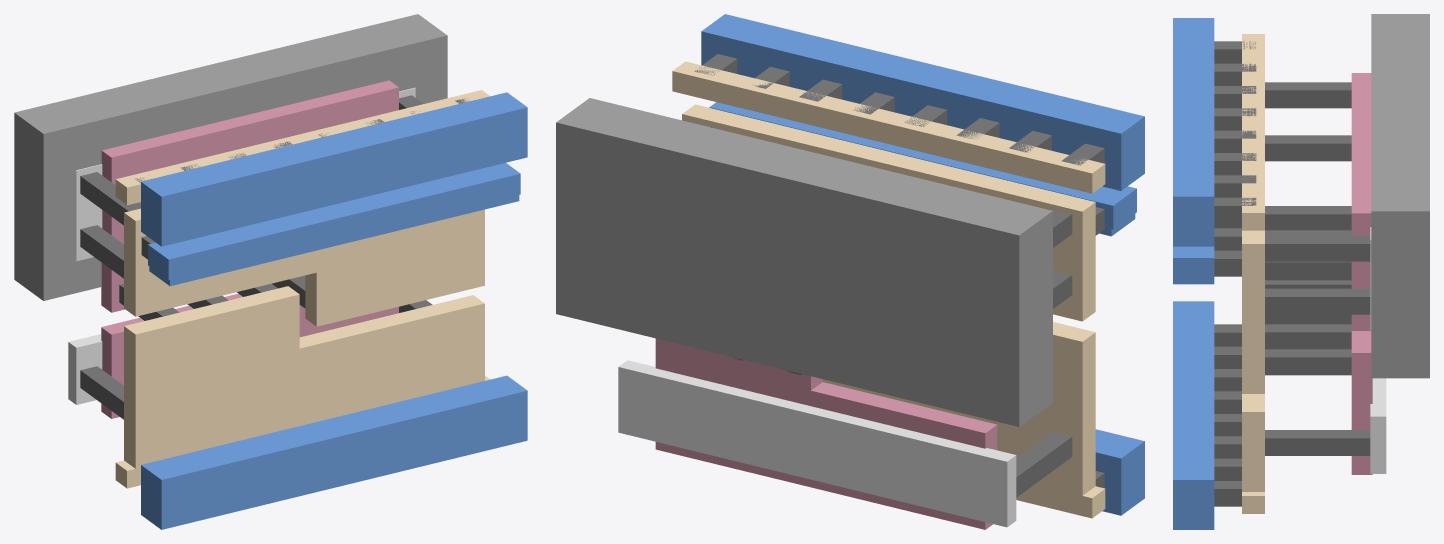
The model's file is sky130_fd_sc_hd__lpflow_decapkapwr_8.gds.gltf.
The picture shows the model from 3 angles, left to right: view 1: azimuth 30°, elevation 25°; view 2: azimuth 150°, elevation 25°; view 3: azimuth 270°, elevation 25°; orthographic projection. The views are drawn at different scales.
Parts seen in each view (by area): view 1: sky130_fd_sc_hd__lpflow_decapkapwr_8_met1, sky130_fd_sc_hd__lpflow_decapkapwr_8_li1, sky130_fd_sc_hd__lpflow_decapkapwr_8_nwell, sky130_fd_sc_hd__lpflow_decapkapwr_8_poly, sky130_fd_sc_hd__lpflow_decapkapwr_8_licon, sky130_fd_sc_hd__lpflow_decapkapwr_8_diff; view 2: sky130_fd_sc_hd__lpflow_decapkapwr_8_nwell, sky130_fd_sc_hd__lpflow_decapkapwr_8_li1, sky130_fd_sc_hd__lpflow_decapkapwr_8_met1, sky130_fd_sc_hd__lpflow_decapkapwr_8_diff, sky130_fd_sc_hd__lpflow_decapkapwr_8_poly, sky130_fd_sc_hd__lpflow_decapkapwr_8_mcon, sky130_fd_sc_hd__lpflow_decapkapwr_8_licon; view 3: sky130_fd_sc_hd__lpflow_decapkapwr_8_licon, sky130_fd_sc_hd__lpflow_decapkapwr_8_nwell, sky130_fd_sc_hd__lpflow_decapkapwr_8_met1, sky130_fd_sc_hd__lpflow_decapkapwr_8_mcon, sky130_fd_sc_hd__lpflow_decapkapwr_8_li1, sky130_fd_sc_hd__lpflow_decapkapwr_8_poly, sky130_fd_sc_hd__lpflow_decapkapwr_8_diff.
Part boxes in pixels (box(x1,y1,x2,y2)): sky130_fd_sc_hd__lpflow_decapkapwr_8_met1: box(141, 92, 527, 529); sky130_fd_sc_hd__lpflow_decapkapwr_8_li1: box(115, 90, 489, 488); sky130_fd_sc_hd__lpflow_decapkapwr_8_nwell: box(14, 14, 447, 300); sky130_fd_sc_hd__lpflow_decapkapwr_8_poly: box(101, 80, 398, 418); sky130_fd_sc_hd__lpflow_decapkapwr_8_licon: box(80, 95, 432, 419); sky130_fd_sc_hd__lpflow_decapkapwr_8_diff: box(68, 87, 415, 404); sky130_fd_sc_hd__lpflow_decapkapwr_8_nwell: box(556, 98, 1052, 426); sky130_fd_sc_hd__lpflow_decapkapwr_8_li1: box(672, 61, 1105, 518); sky130_fd_sc_hd__lpflow_decapkapwr_8_met1: box(701, 14, 1144, 515); sky130_fd_sc_hd__lpflow_decapkapwr_8_diff: box(618, 360, 1016, 527); sky130_fd_sc_hd__lpflow_decapkapwr_8_poly: box(655, 338, 997, 529); sky130_fd_sc_hd__lpflow_decapkapwr_8_mcon: box(694, 54, 1104, 488); sky130_fd_sc_hd__lpflow_decapkapwr_8_licon: box(691, 121, 1072, 497); sky130_fd_sc_hd__lpflow_decapkapwr_8_licon: box(1265, 82, 1370, 455); sky130_fd_sc_hd__lpflow_decapkapwr_8_nwell: box(1371, 14, 1429, 378); sky130_fd_sc_hd__lpflow_decapkapwr_8_met1: box(1173, 18, 1214, 529); sky130_fd_sc_hd__lpflow_decapkapwr_8_mcon: box(1214, 41, 1256, 506); sky130_fd_sc_hd__lpflow_decapkapwr_8_li1: box(1242, 34, 1264, 513); sky130_fd_sc_hd__lpflow_decapkapwr_8_poly: box(1351, 73, 1372, 474); sky130_fd_sc_hd__lpflow_decapkapwr_8_diff: box(1370, 227, 1386, 473).
Size of the model in its own units: 4.06 by 3.2 by 2.24.
